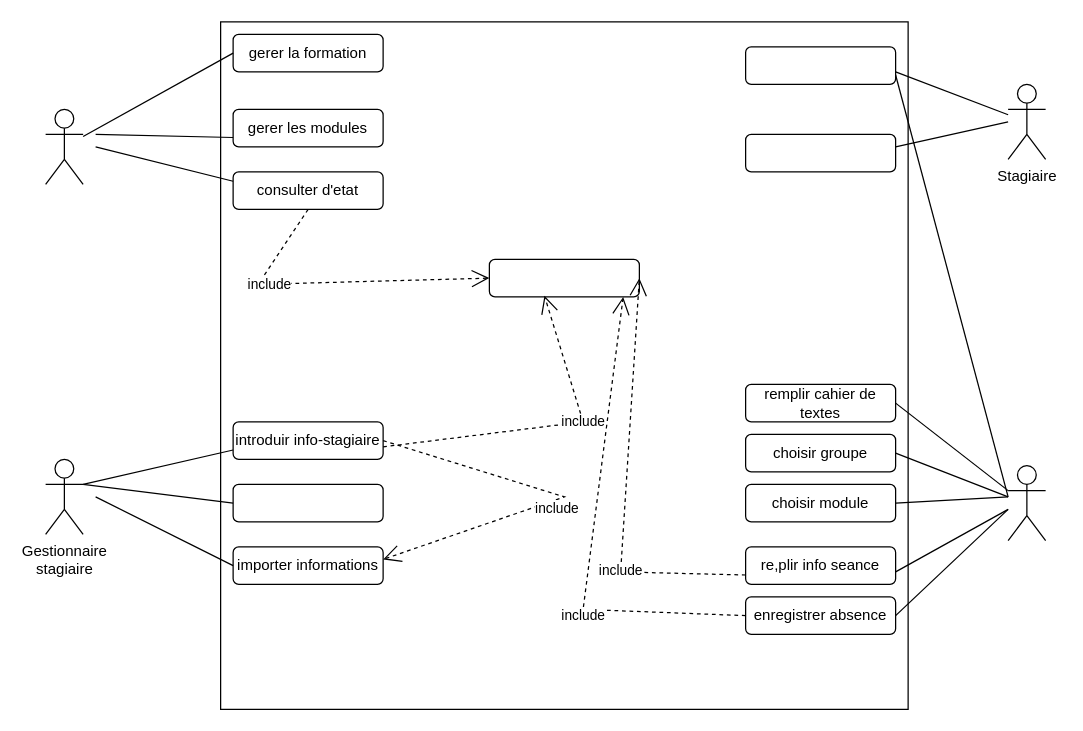
The diagram is 1083 pixels wide and 731 high, and some of its shapes have lost their labels. The shapes that lost their labels are listed below. From the top down, each one's centre as x and y in pixels, then its label:
At [820,65]: "choisir filieres".
At [63,146]: "Directeur".
At [820,152]: "consulter ses absences".
At [563,277]: "authentifier".
At [307,502]: "consulter d'etat d'absence".
At [1026,502]: "Formateur".
